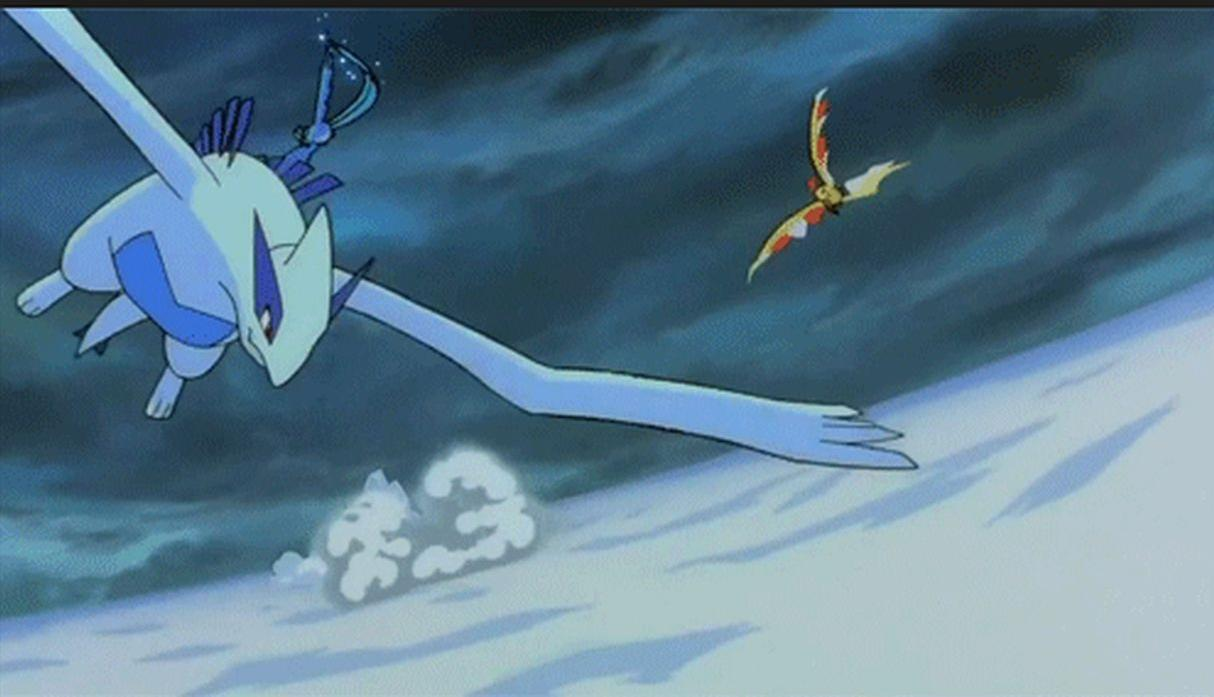lugia: (205, 163, 375, 391)
